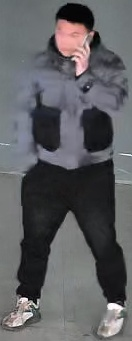phone: (51, 6, 127, 122)
